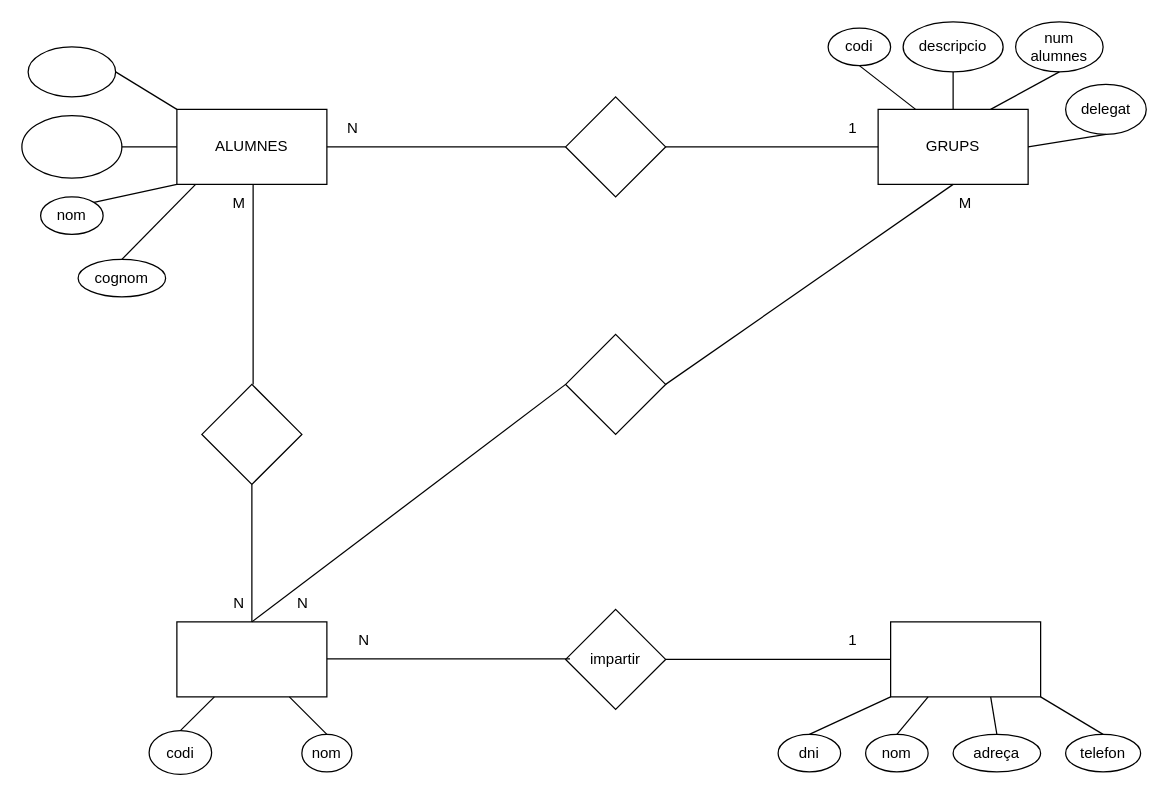
The diagram is 1169 pixels wide and 796 high, and some of its shapes have lost their labels. The box of each missing label's shape, as (x1, y1, x2, y2) in pixels:
data naixement: (27, 46, 116, 97)
matricular: (201, 383, 302, 484)
MODULS: (176, 621, 327, 697)
numero expedient: (21, 114, 122, 178)
PROFESSORS: (889, 621, 1041, 697)
ser: (564, 96, 666, 197)
tenir: (564, 333, 666, 434)
